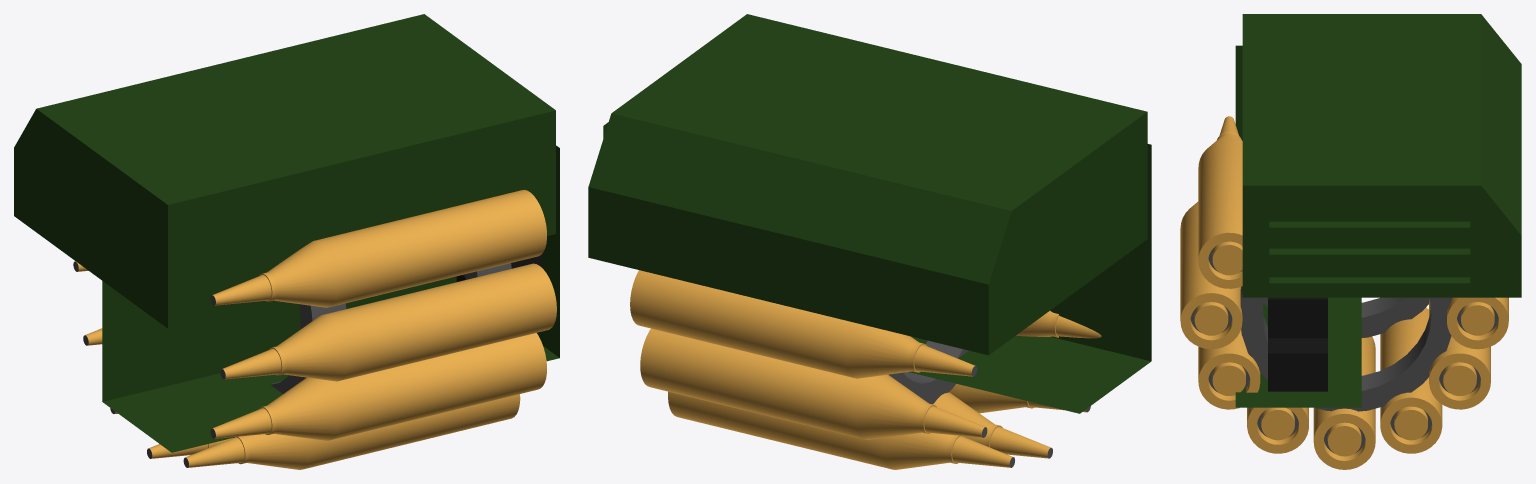
Rendered from ispitatel_scene_model_2.gltf.
3 renders of one model, left to right at view 1: azimuth 30°, elevation 25°; view 2: azimuth 150°, elevation 25°; view 3: azimuth 270°, elevation 25°, orthographic. The views are drawn at different scales.
Parts seen in each view (by area): view 1: Куб, Цилиндр.007; view 2: Куб, Цилиндр.007; view 3: Куб, Цилиндр.007, Куб.001.
Part boxes in pixels (x1,y1,x2,y2): Куб: (14, 14, 559, 452); Цилиндр.007: (73, 189, 556, 469); Куб: (588, 14, 1151, 413); Цилиндр.007: (630, 270, 1101, 469); Куб: (1235, 14, 1521, 407); Цилиндр.007: (1180, 116, 1508, 469); Куб.001: (1268, 297, 1327, 391).
Size of the model in its own units: 10.43 by 8.19 by 8.47.
